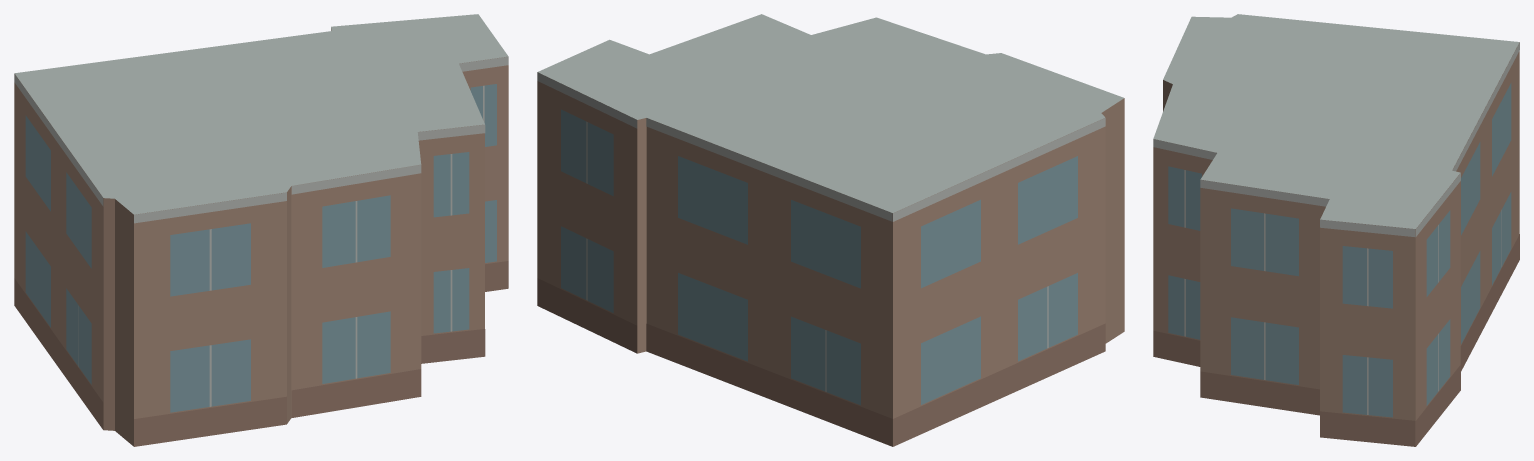
File: survey-upis-32616283.glb
3 views of the same model, side by side, from view 1: azimuth 30°, elevation 25°; view 2: azimuth 150°, elevation 25°; view 3: azimuth 270°, elevation 25° (orthographic). The views are drawn at different scales.
Visible parts, largest first — view 1: survey-upis-32616283.tmp; view 2: survey-upis-32616283.tmp; view 3: survey-upis-32616283.tmp.
Boxes of the visible parts, box(x1,y1,x2,y2) form: survey-upis-32616283.tmp: box(14, 14, 508, 446); survey-upis-32616283.tmp: box(537, 14, 1124, 446); survey-upis-32616283.tmp: box(1153, 14, 1519, 446).
Size of the model in its own units: 13.78 by 6.5 by 9.92.
